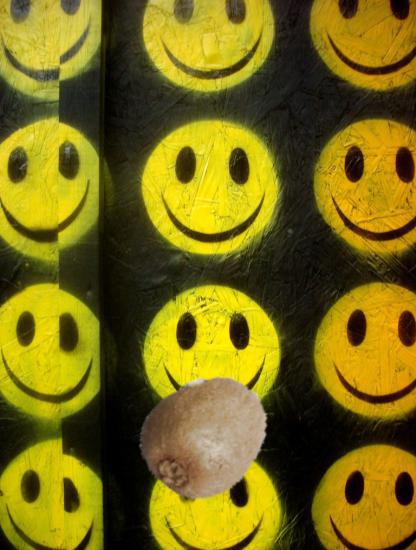Kiwi: (138, 370, 274, 506)
